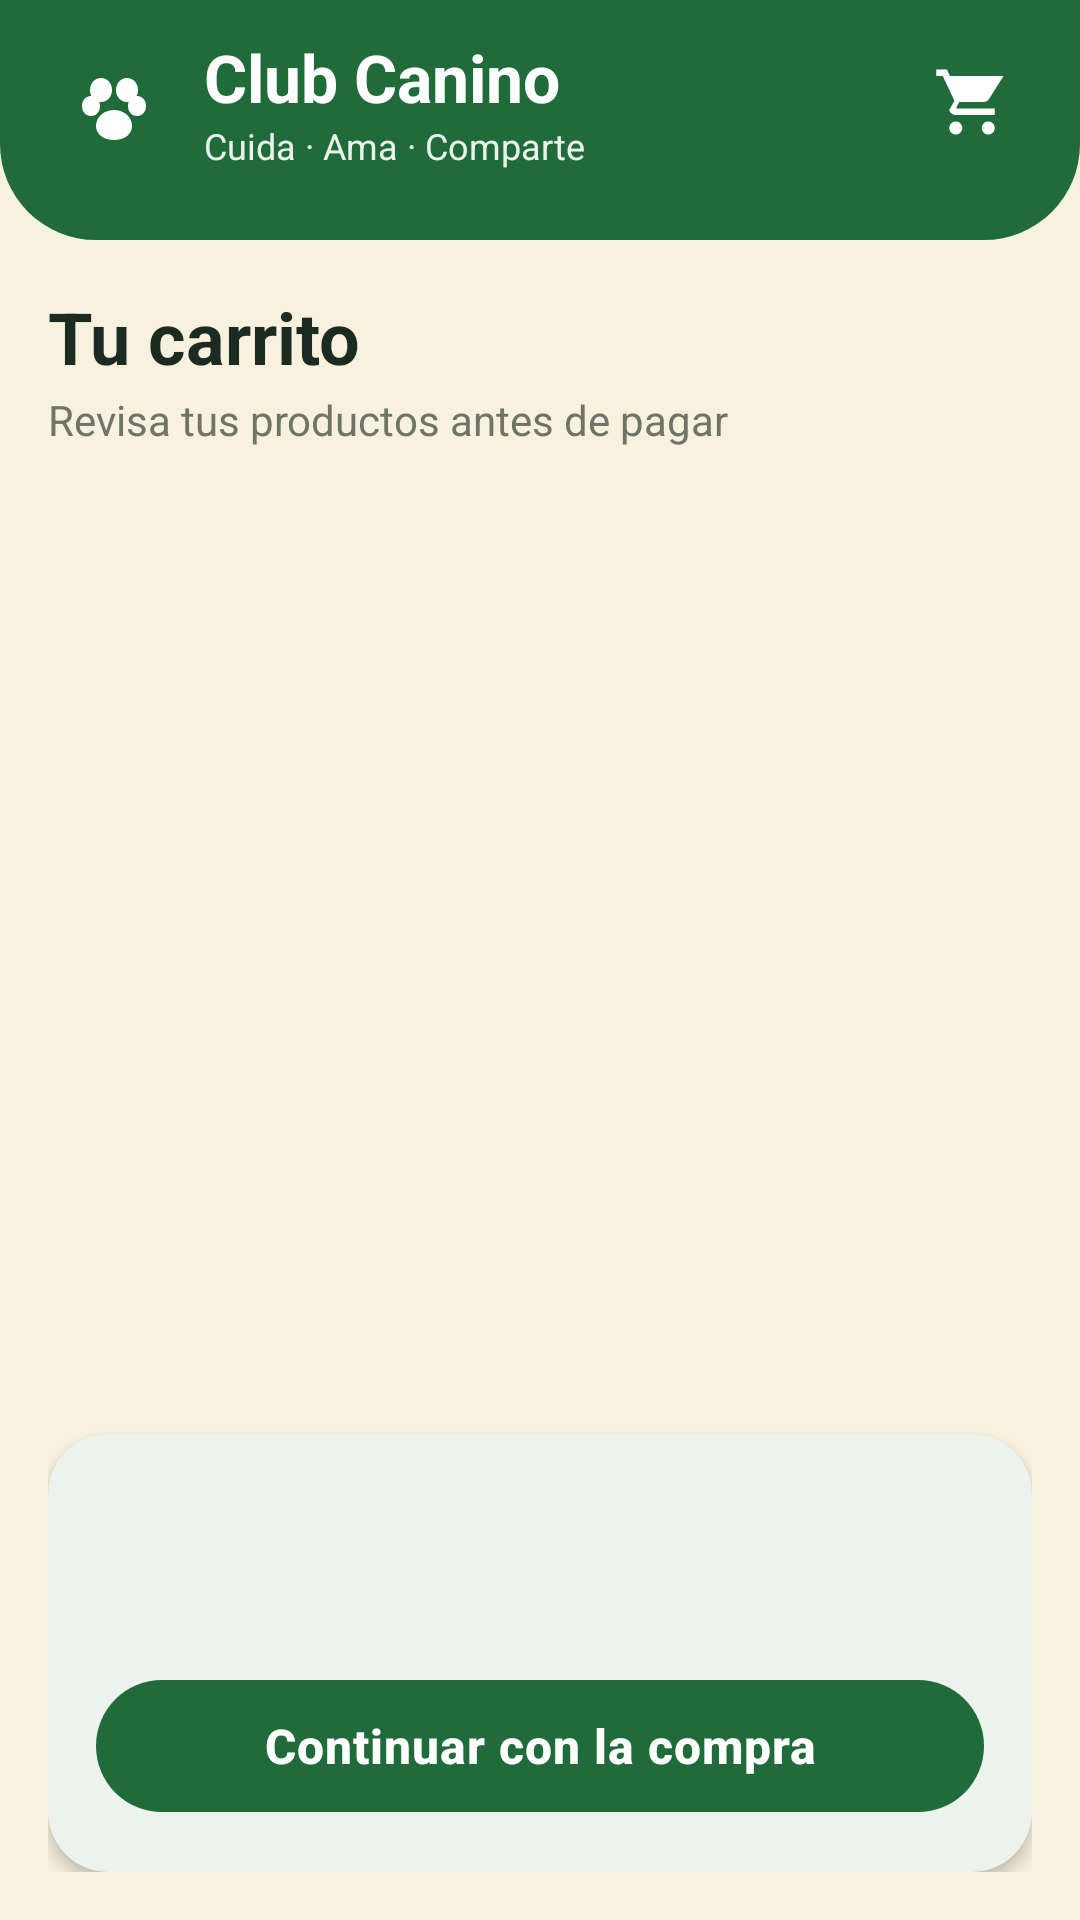

Named icons in this screenshot (1080 x 1920) and their bounding boxes, [x1=x1, y1=y1, x2=x2, y2=y2]:
Abrir carrito: [x1=936, y1=69, x2=1004, y2=135]
paw: [x1=82, y1=78, x2=146, y2=140]
